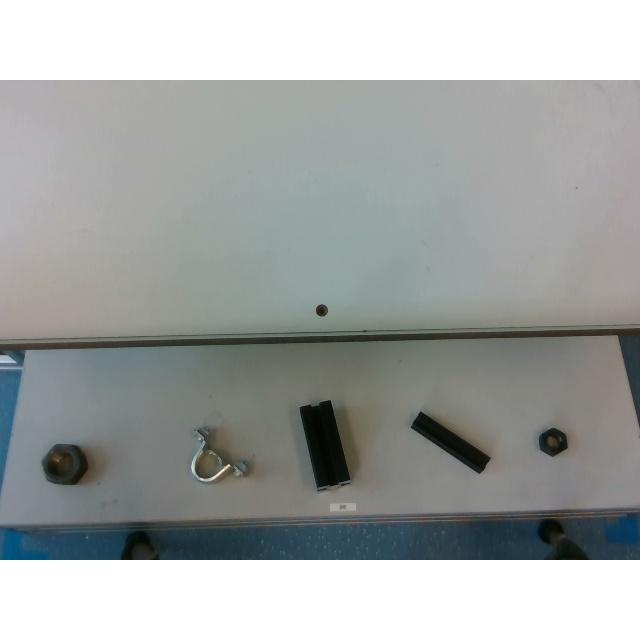F20_20_B: (410, 412, 490, 472)
Housing: (189, 428, 245, 482)
M20: (538, 428, 566, 456)
M30: (41, 444, 87, 484)
S40_40_B: (299, 400, 351, 490)
